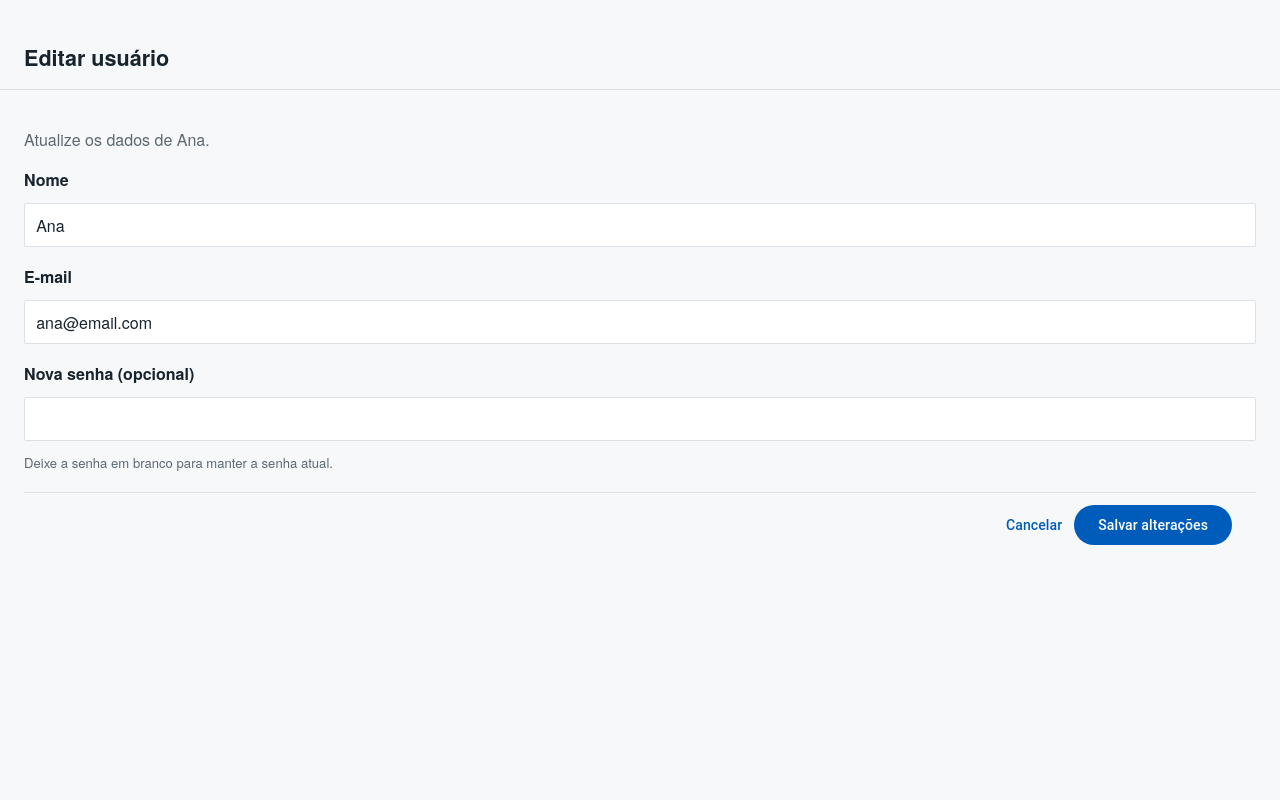
Test: UserEditDialogComponent › prevents submission with an invalid email
This screenshot has width=1280, height=800.
Replace the text in the field with id "edit-user-email" with "invalid" at (640, 322), box 24,300 -> 1256,344
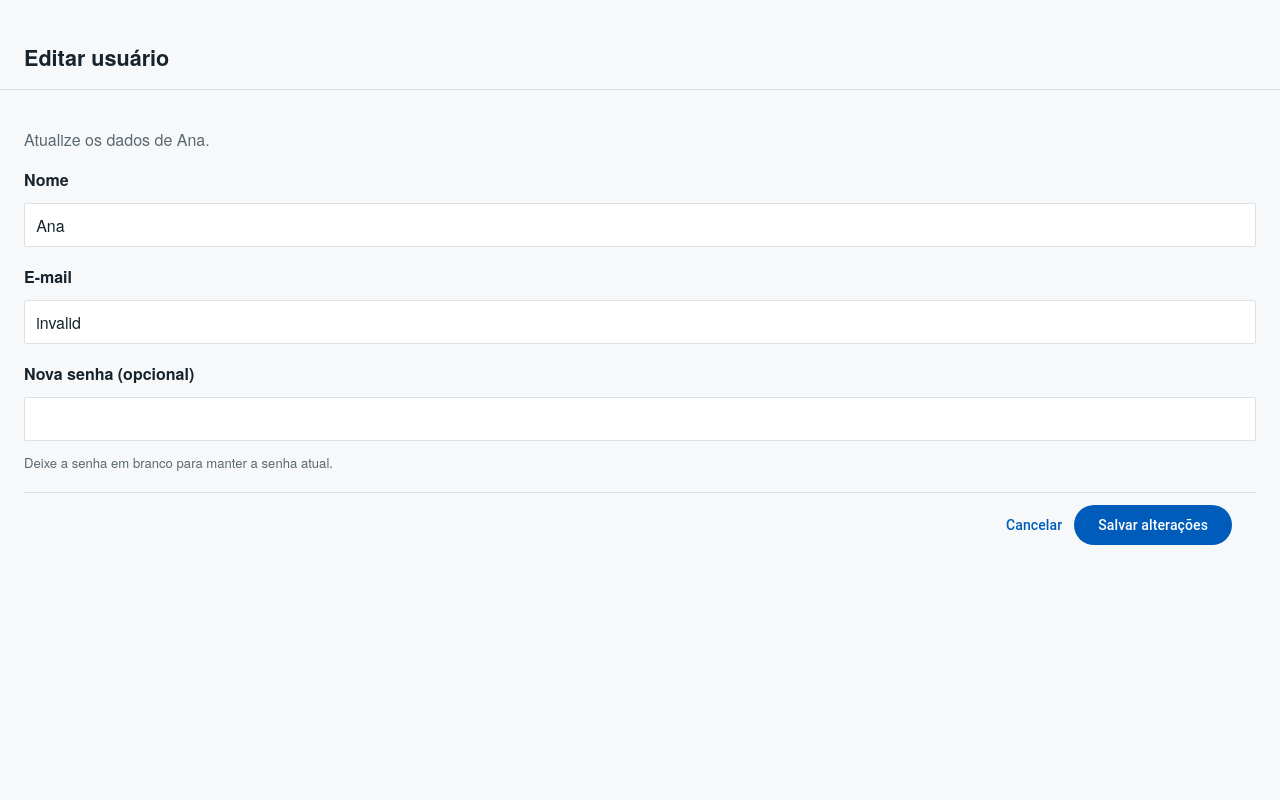
Submit the form, box 0,108 -> 1279,580
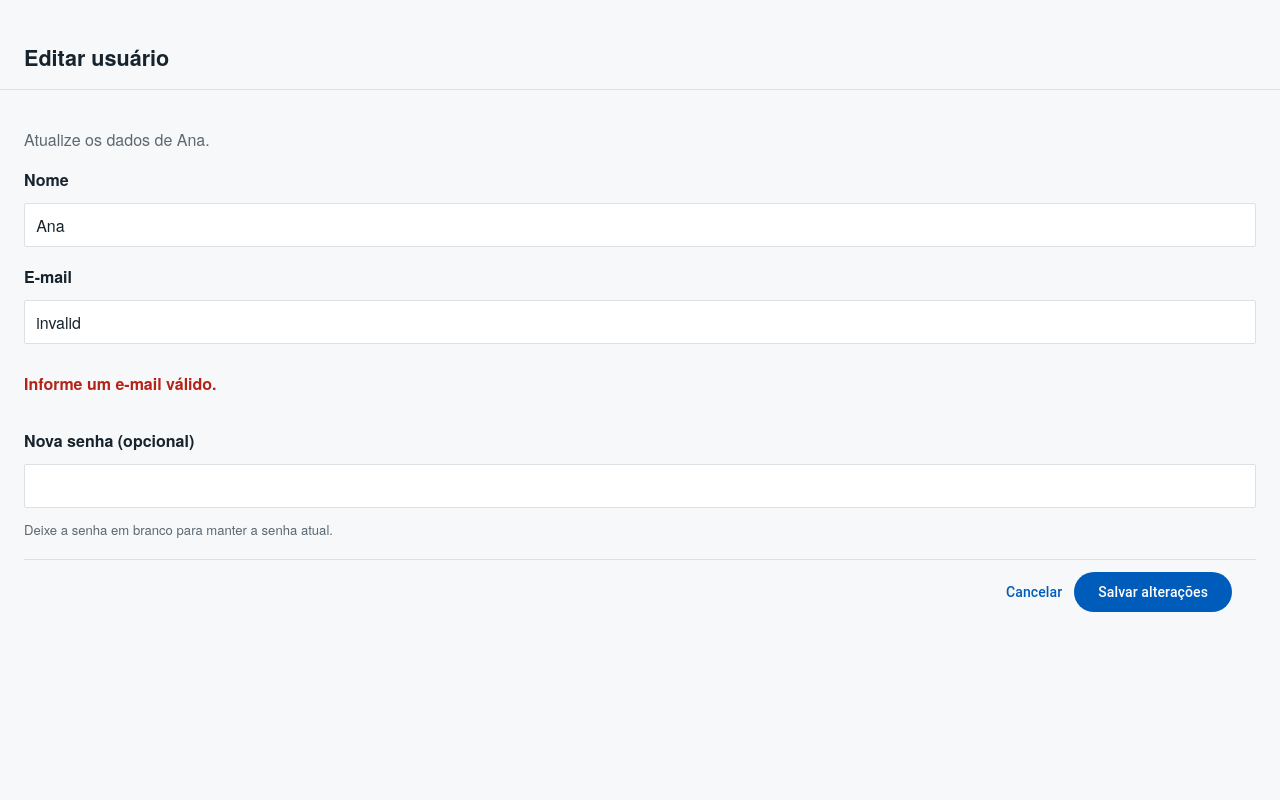
Expected: the text "Informe um e-mail válido." is shown, 24,372 -> 216,395
